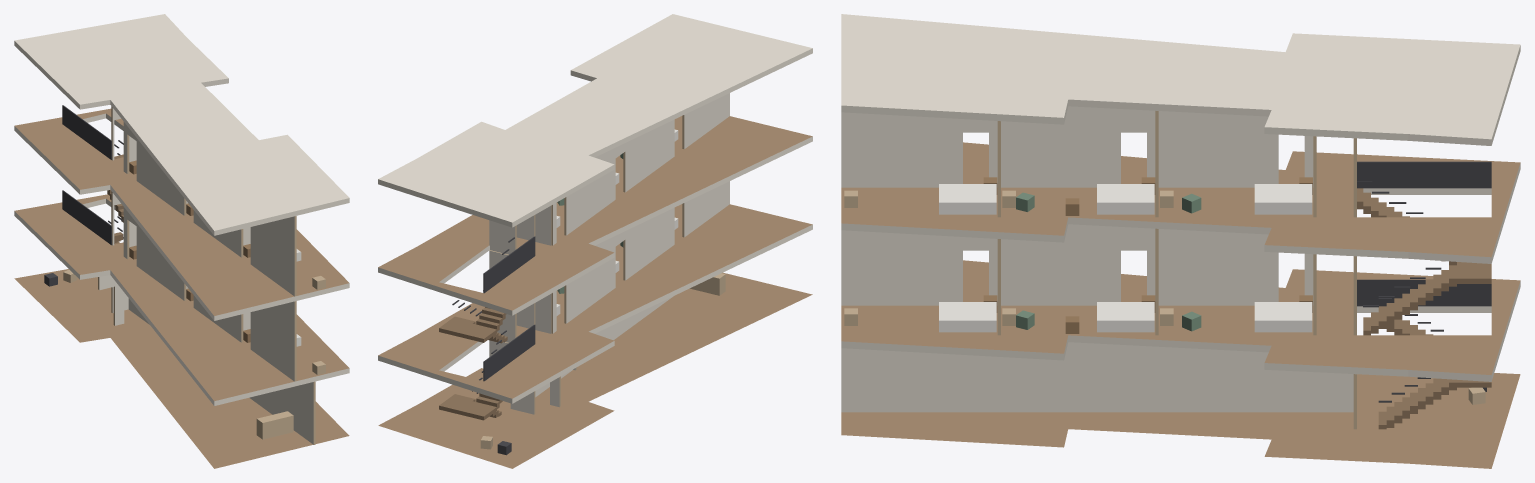
The model's file is interior.glb.
The picture shows the model from 3 angles, left to right: view 1: azimuth 30°, elevation 25°; view 2: azimuth 150°, elevation 25°; view 3: azimuth 270°, elevation 25°; orthographic projection. The views are drawn at different scales.
Parts seen in each view (by area): view 1: slabs, partitions, stair, coarse-s0, coarse-s2, coarse-s1; view 2: slabs, partitions, stair, coarse-s0; view 3: slabs, partitions, stair, coarse-s2, coarse-s1.
Boxes of the visible parts, x1,y1,x2,y2 form: slabs: (14, 14, 349, 468); partitions: (98, 106, 315, 444); stair: (62, 105, 123, 245); coarse-s0: (44, 269, 293, 439); coarse-s2: (129, 160, 325, 289); coarse-s1: (129, 245, 325, 374); slabs: (378, 14, 812, 468); partitions: (489, 93, 729, 414); stair: (439, 236, 535, 420); coarse-s0: (480, 273, 725, 455); slabs: (841, 14, 1520, 468); partitions: (841, 106, 1356, 429); stair: (1357, 161, 1491, 429); coarse-s2: (844, 177, 1312, 215); coarse-s1: (844, 295, 1312, 333).
Bounding box in the file's own units: 10.26 × 12.6 × 23.49.
